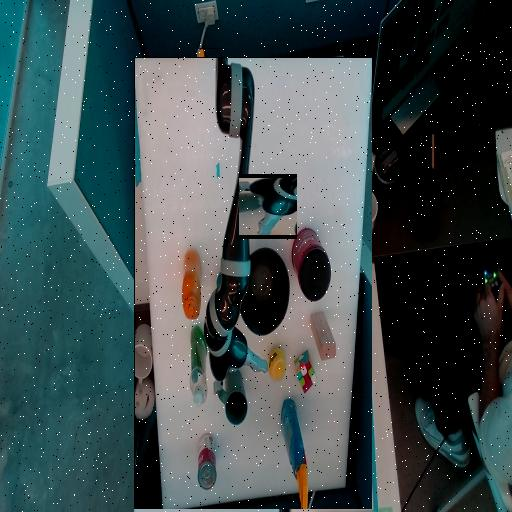bowl: (217, 250, 268, 302)
cleanser: (300, 161, 316, 241)
coffee_can: (176, 267, 214, 338)
jaco: (239, 177, 297, 236)
meat_can: (267, 244, 289, 298)
mug: (258, 156, 289, 186)
mustard_bottle: (306, 249, 324, 317)
rubik: (190, 174, 212, 217)
soup_can: (291, 78, 308, 133)
tennis_ball: (221, 195, 238, 212)
windex: (198, 49, 225, 167)
wooden_block: (171, 208, 195, 254)
workspace: (134, 58, 372, 509)
